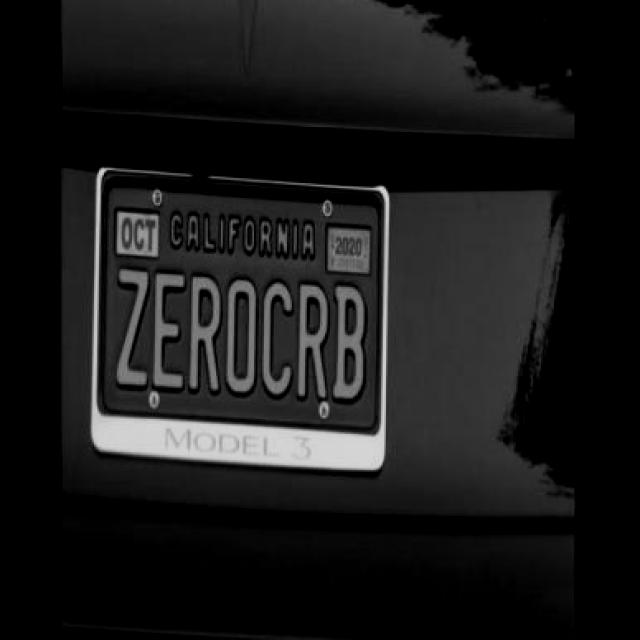licenseplate: (95, 158, 387, 475)
